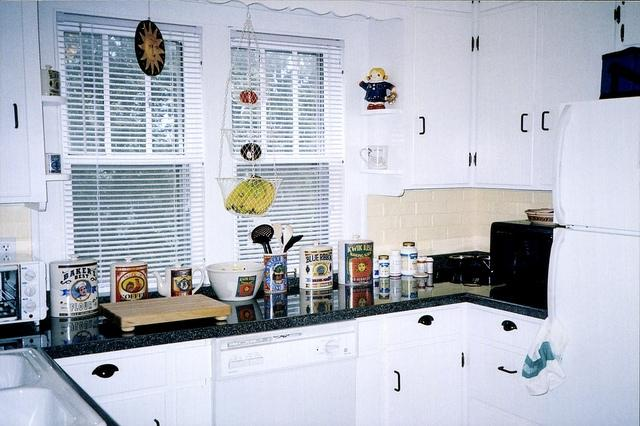banana: (226, 175, 252, 210), (231, 177, 255, 210), (252, 180, 273, 213), (245, 182, 265, 210)
